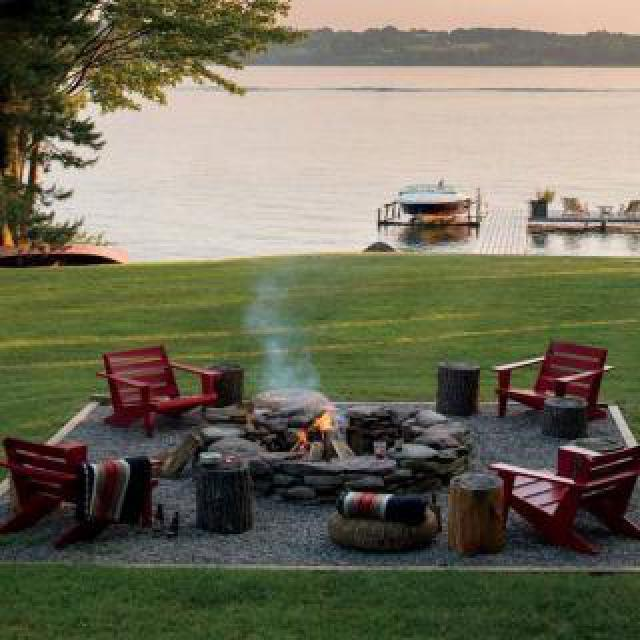Fire: (304, 406, 340, 444)
Smoke: (248, 209, 324, 405)
